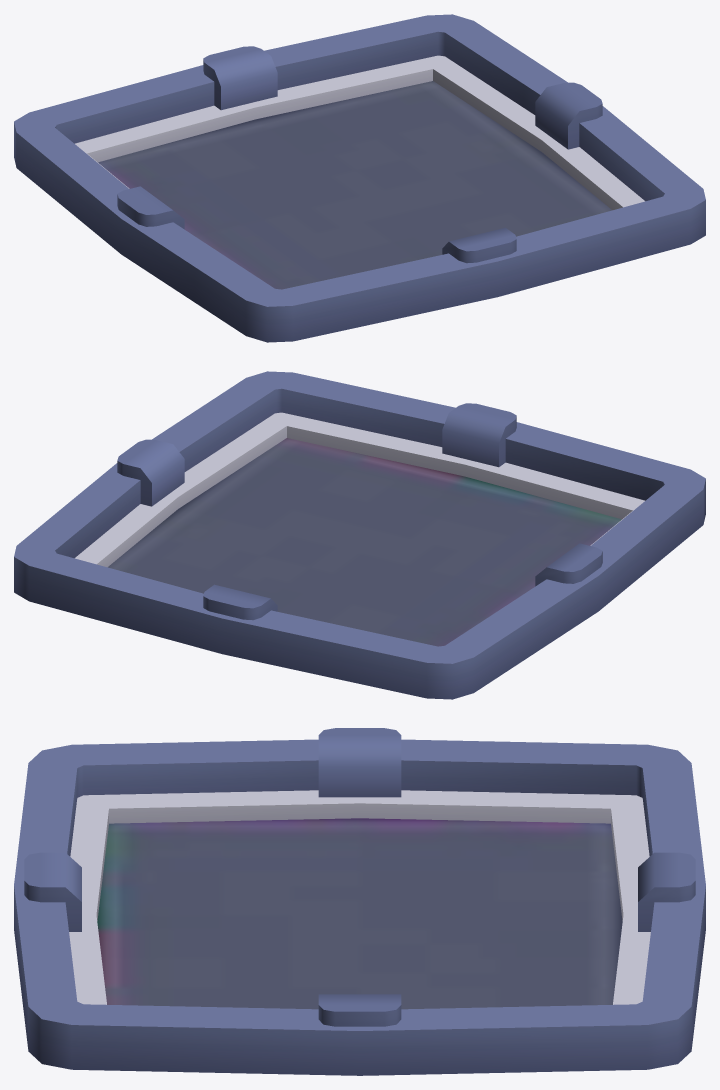
The model's file is template-floor-layer.glb.
3 renders of one model, top to bottom at view 1: azimuth 30°, elevation 25°; view 2: azimuth 150°, elevation 25°; view 3: azimuth 270°, elevation 25°, orthographic. The views are drawn at different scales.
Parts seen in each view (by area): view 1: template-floor-layer; view 2: template-floor-layer; view 3: template-floor-layer.
Boxes of the visible parts, box(x1,y1,x2,y2) form: template-floor-layer: box(14, 14, 705, 342); template-floor-layer: box(14, 371, 705, 699); template-floor-layer: box(14, 728, 705, 1075).
Size of the model in its own units: 4.2 by 0.3999 by 4.2.
Materials: 1 (1 with a texture image).
